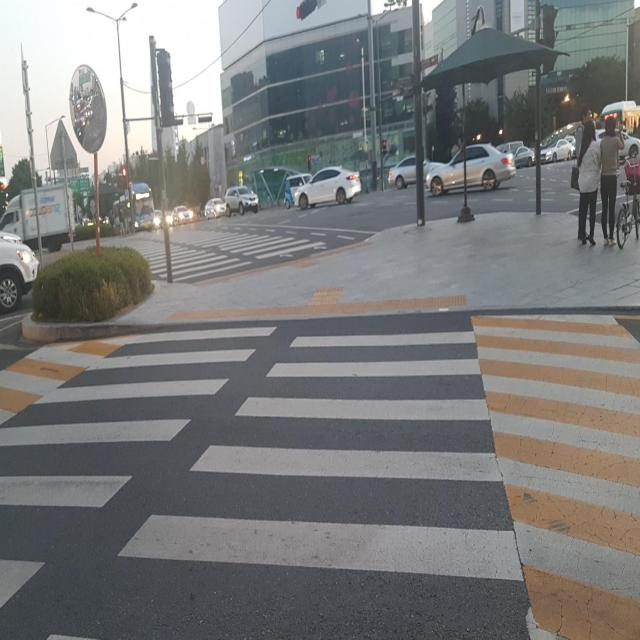횡단보도: (0, 319, 528, 640), (99, 220, 326, 283)
